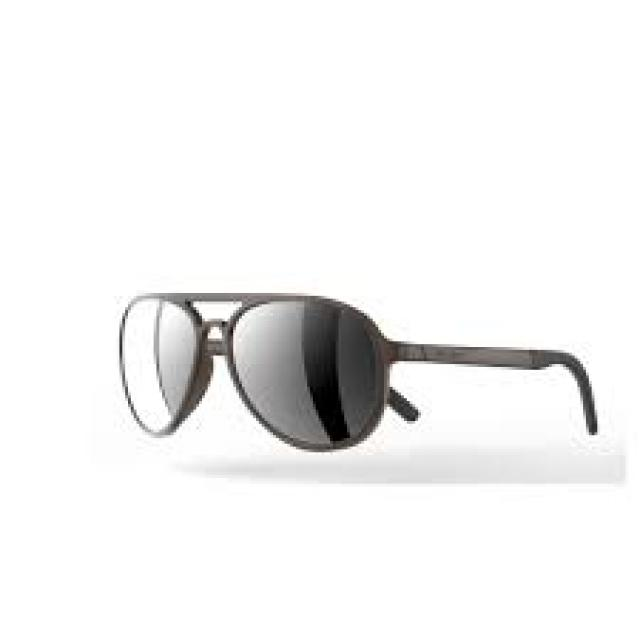suspicious-objects: (104, 275, 434, 462)
